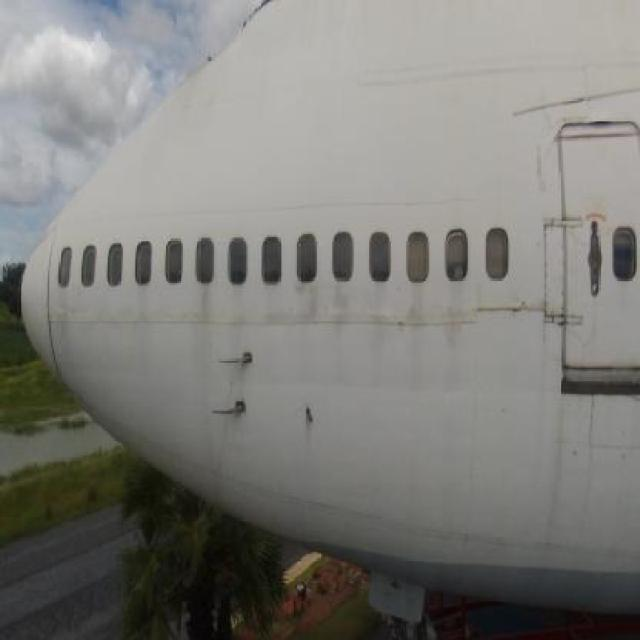Missing-Rivet: (540, 210, 566, 332)
Scartch: (504, 67, 640, 120), (471, 298, 538, 328), (527, 134, 553, 203)
